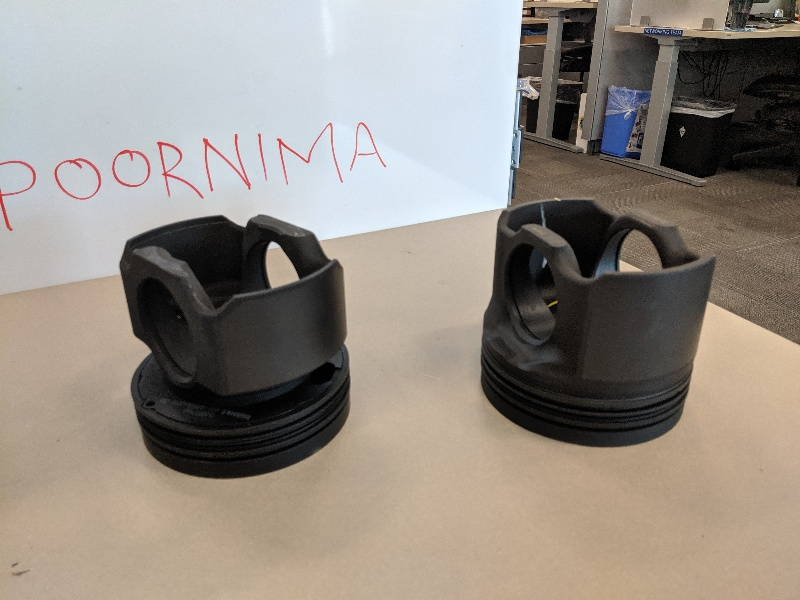piston: (116, 212, 366, 482), (477, 196, 719, 452)
